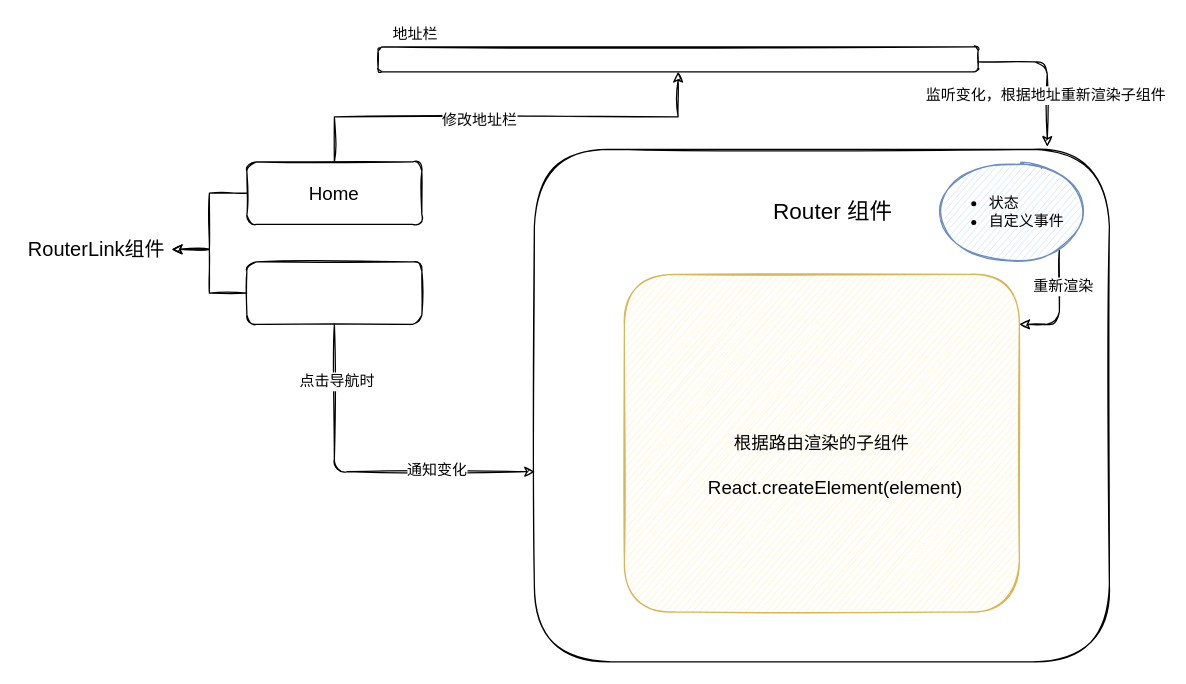
The diagram is 1186 pixels wide and 684 high, and some of its shapes have lost their labels. Here are the shapes that lost their labels. From the top down, the centre of each, then its label:
the point at 677,59: https://demo.rua.plus/about
the point at 334,292: About
